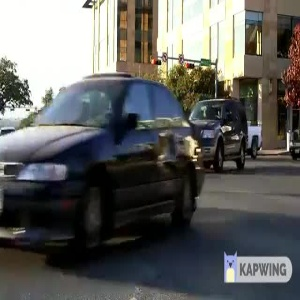car: (1, 78, 200, 241)
suv: (187, 95, 249, 169)
